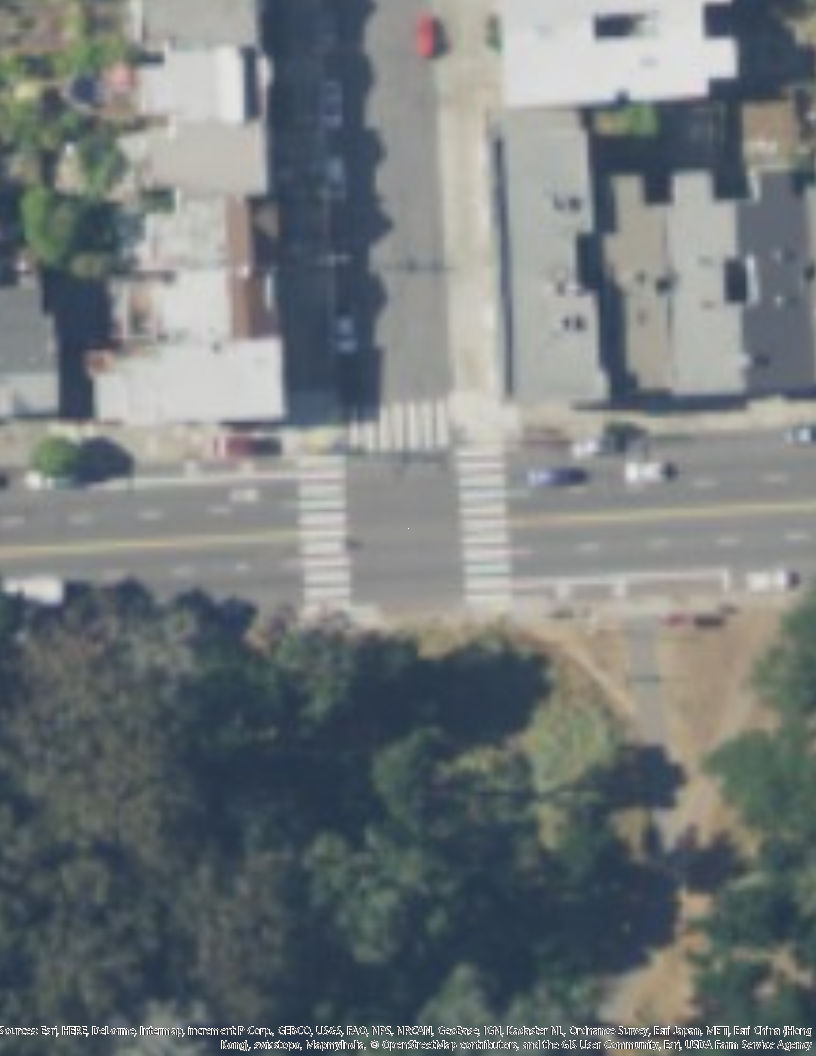zebracross: (451, 446, 517, 619), (294, 461, 354, 610), (347, 392, 447, 455)
